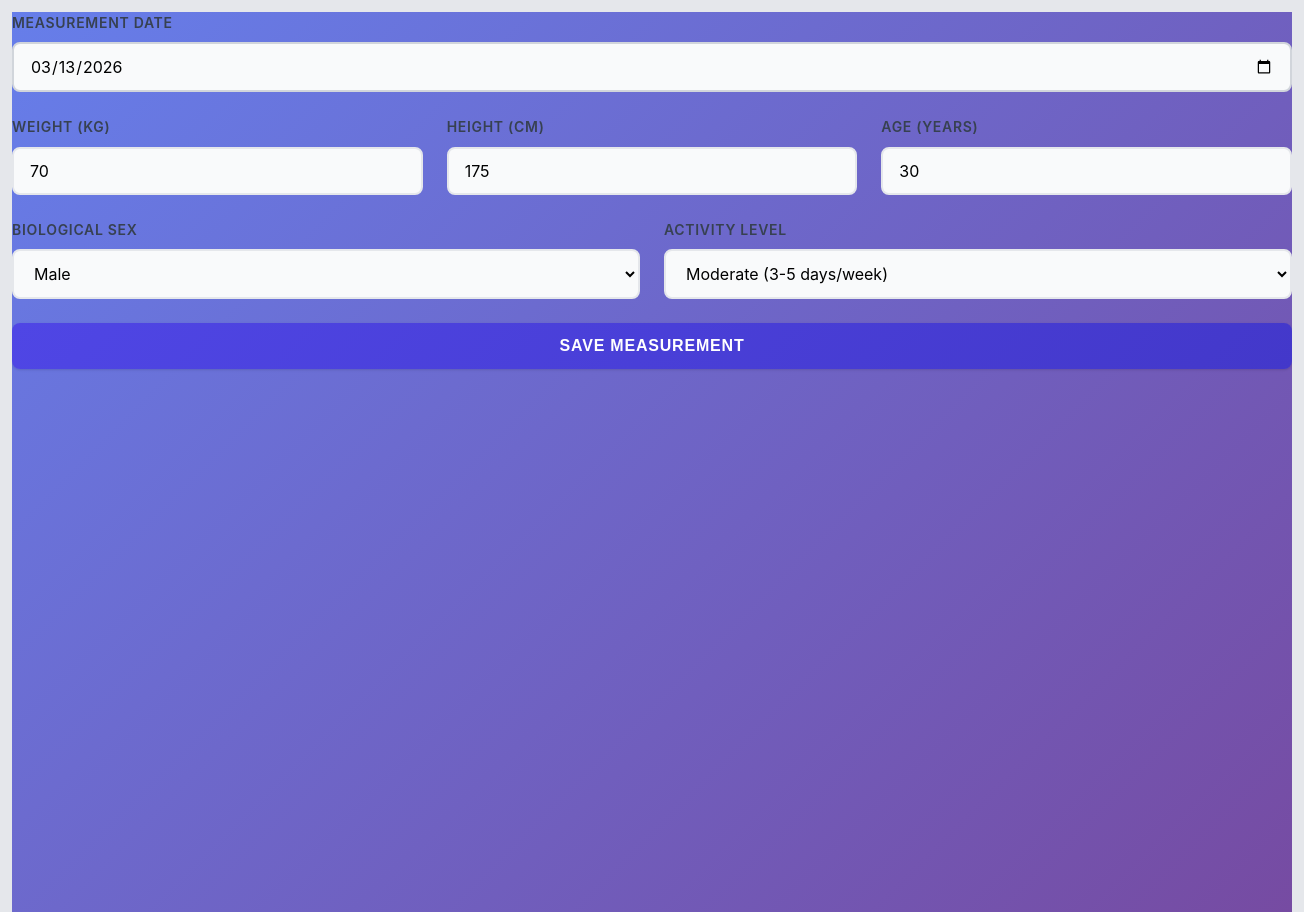
Test: MeasurementForm › submits a new measurement and notifies the parent
The image size is (1304, 912).
Type "72.5" into the number field labelled "Weight (kg)" at (217, 171), box 12,147 -> 423,195
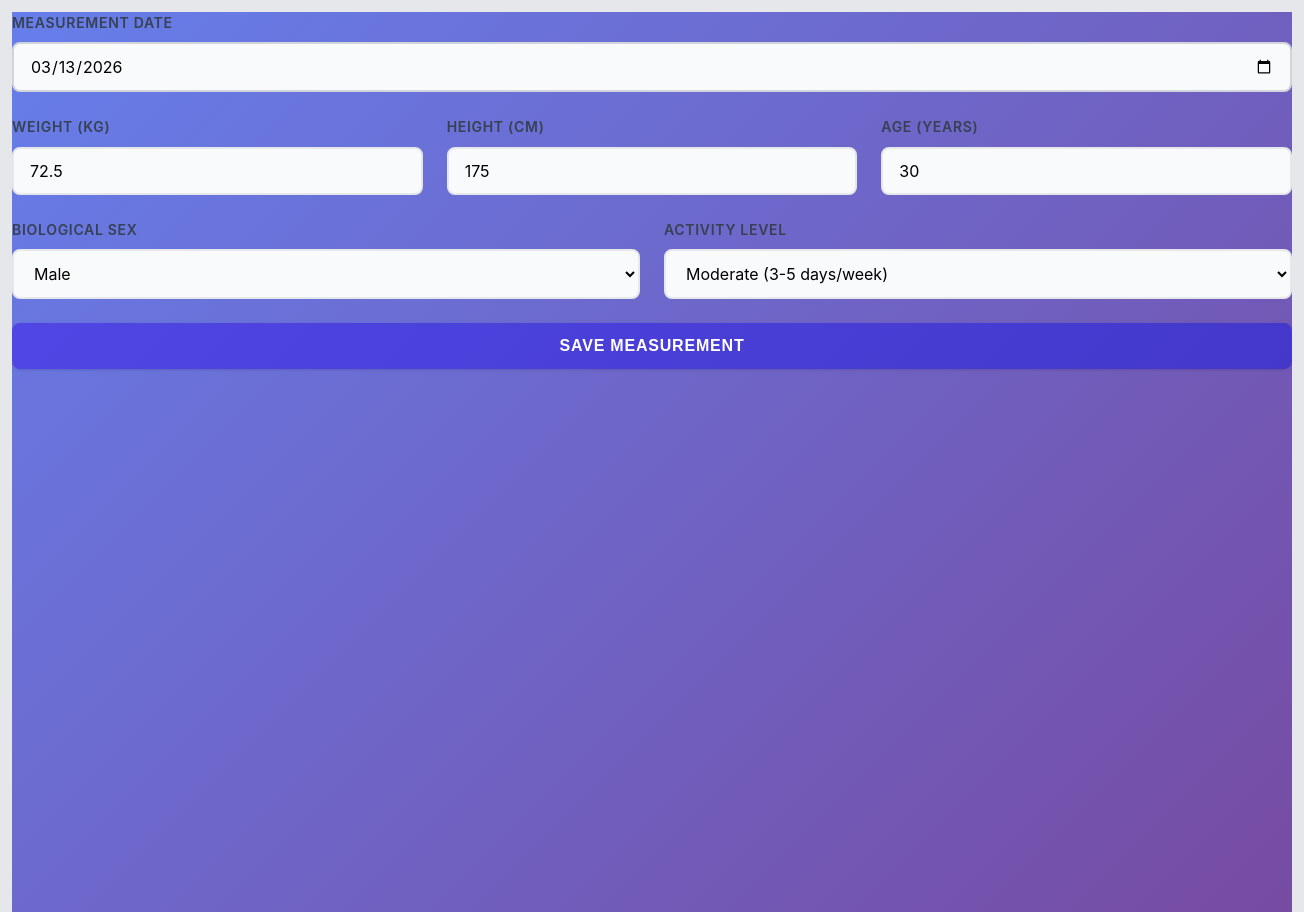
Click the button "Save Measurement" at (652, 346), box 12,323 -> 1292,369
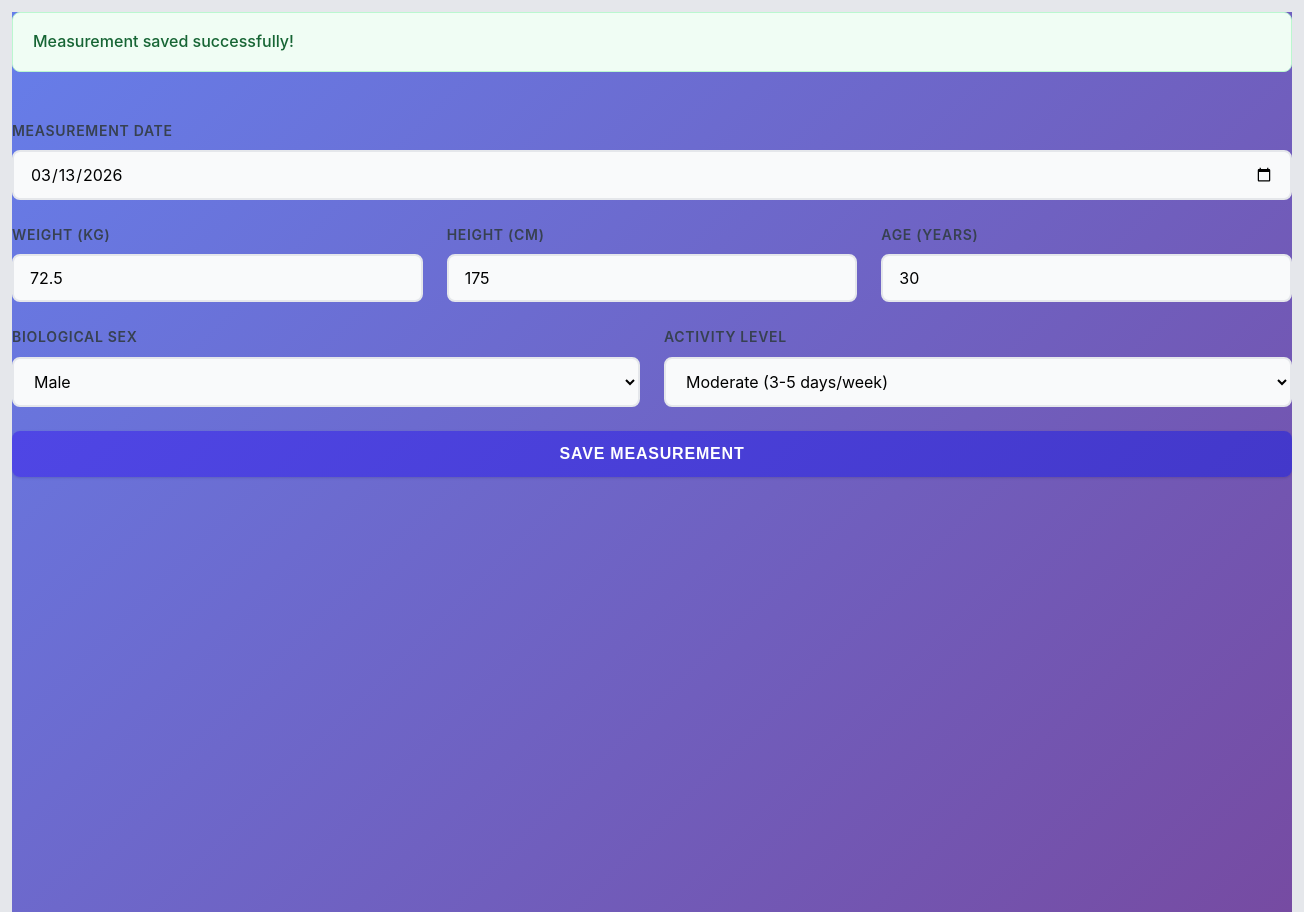
Expected: the text "Measurement saved successfully!" is shown, 12,12 -> 1292,72
